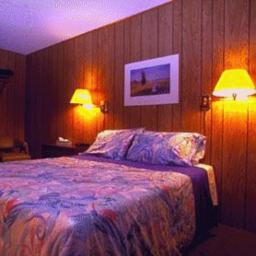Cama: (4, 133, 207, 250)
